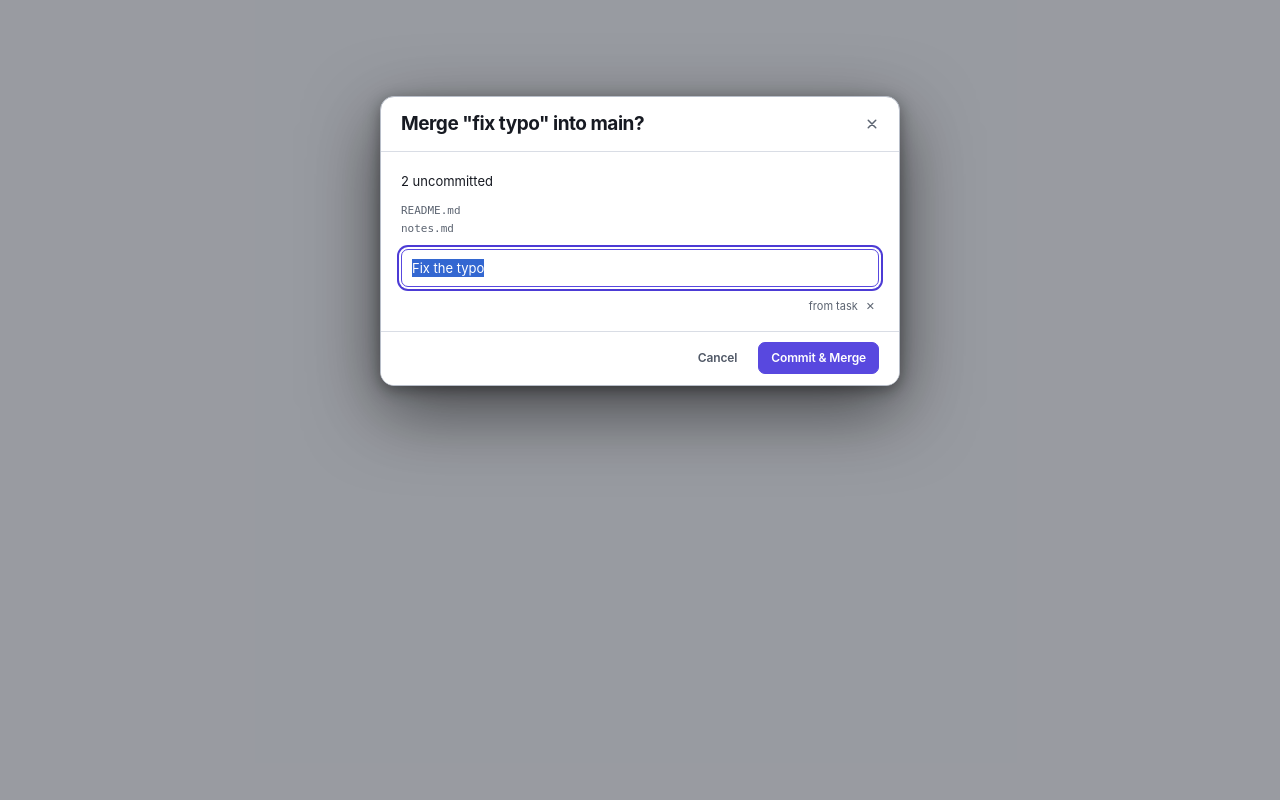
Scenario: a worktree with uncommitted work › clears the suggestion with ✕, which asks for a message again
Step 1. Click the button named "Clear message" → (870, 307), box [862, 299, 879, 315]
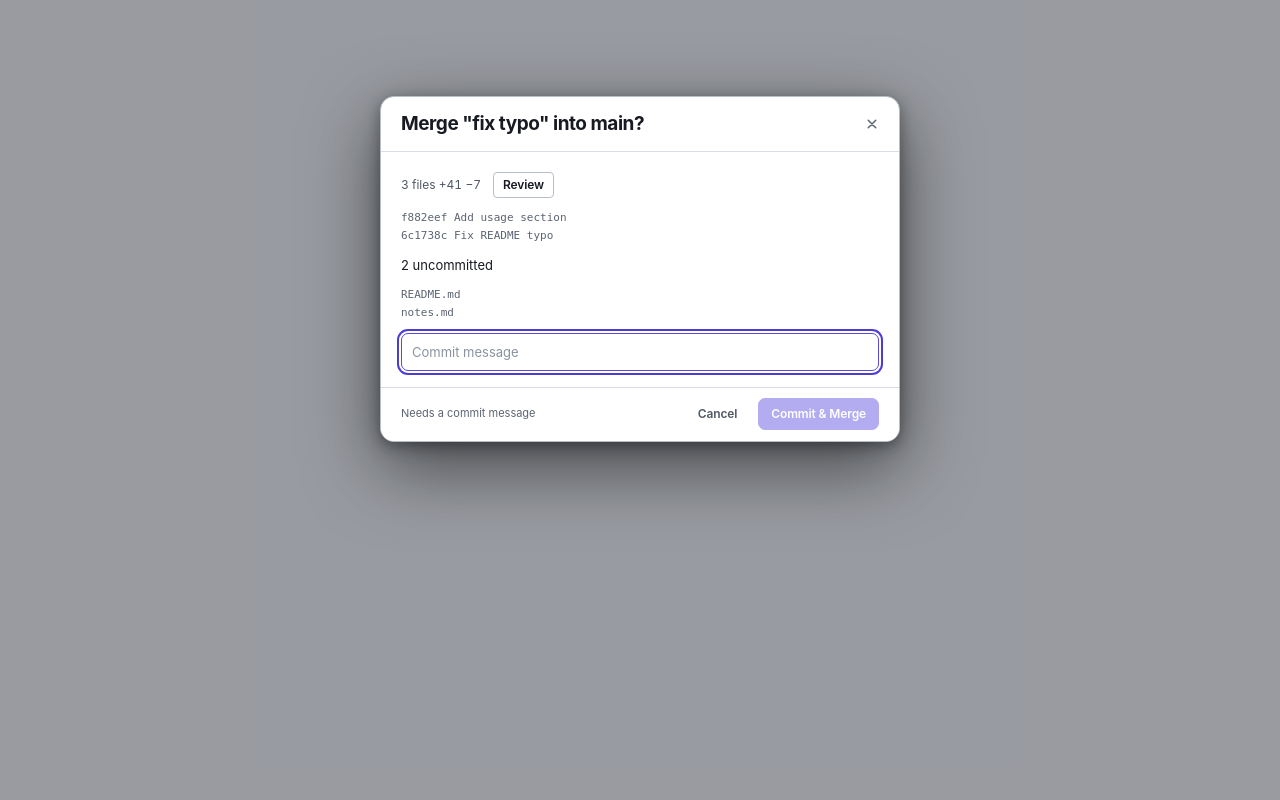
Check: the text box labelled "Commit message" is empty, box [401, 333, 879, 371]
Check: the text "Needs a commit message" is shown, box [401, 406, 536, 422]
